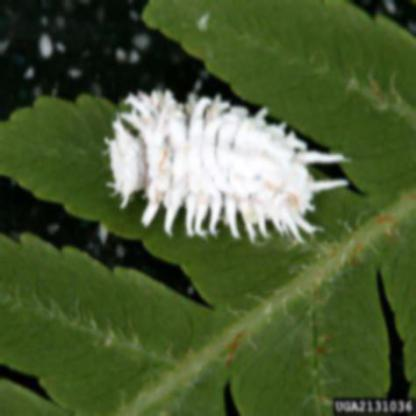mealy bug: (109, 90, 349, 242)
